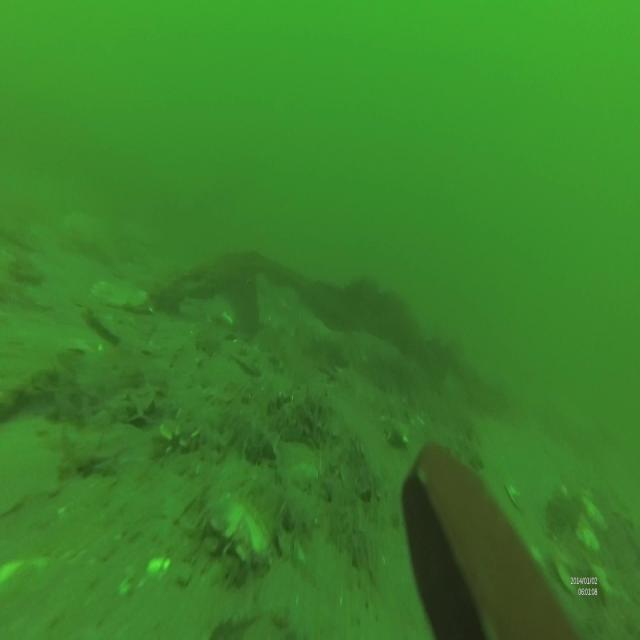echinus: (546, 492, 571, 536)
starfish: (1, 410, 62, 520), (45, 368, 84, 424), (381, 413, 411, 448)
